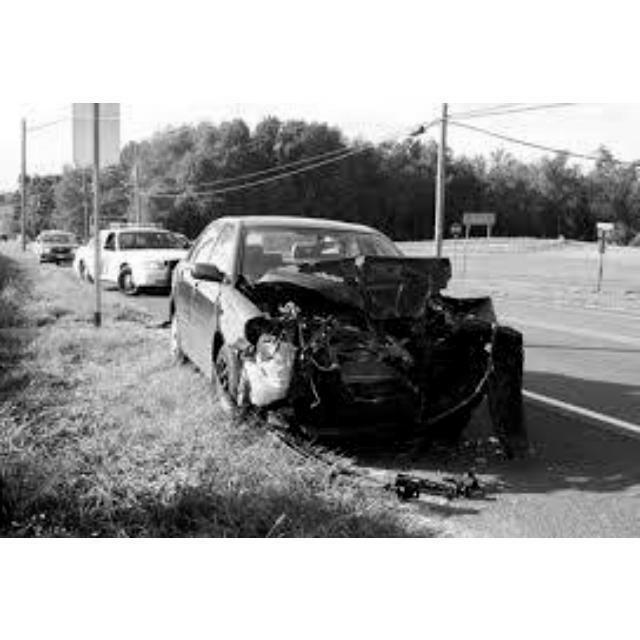bonnet-dent: (288, 244, 445, 305)
fender-dent: (217, 302, 282, 372)
